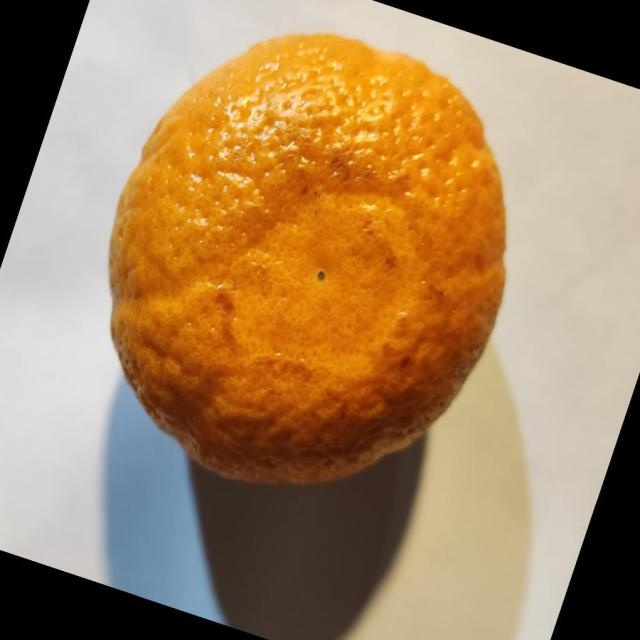agrume: (106, 31, 507, 486)
